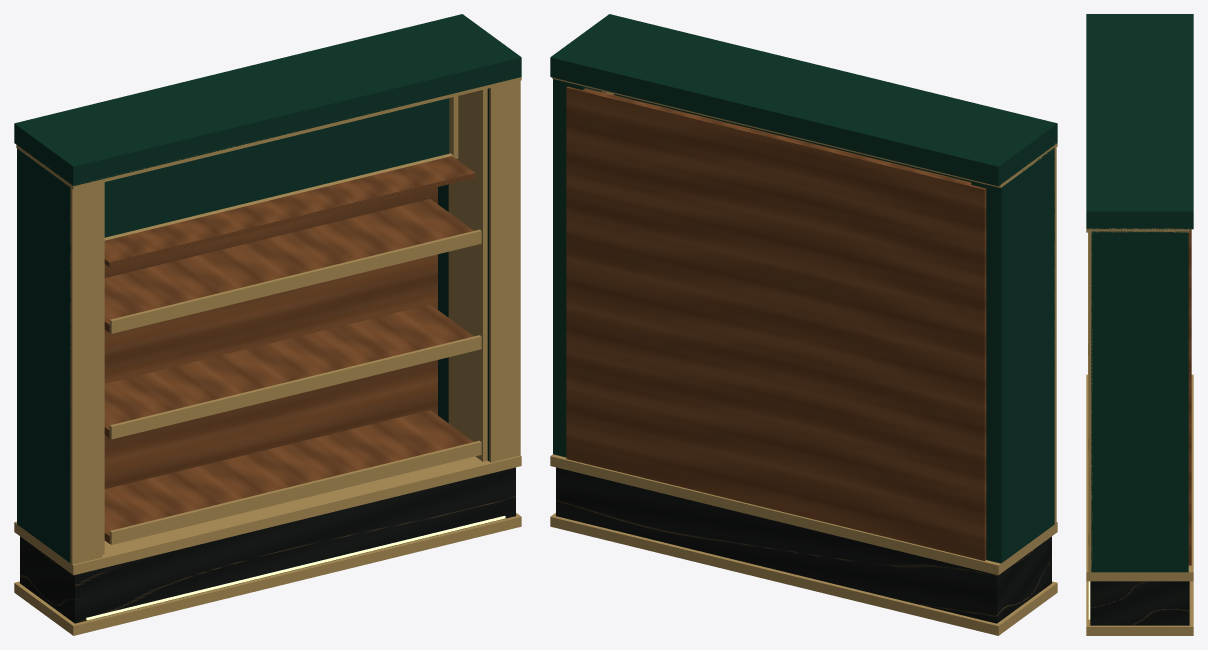
The picture shows the model from 3 angles, left to right: view 1: azimuth 30°, elevation 25°; view 2: azimuth 150°, elevation 25°; view 3: azimuth 270°, elevation 25°; orthographic projection. The views are drawn at different scales.
Visible parts, largest first — view 1: cabinet_back, cabinet_crown, cabinet_stone_base, cabinet_left_pillar, brand_header_panel, shelf_1, shelf_3, shelf_2, trim_left_front, trim_right_front, trim_right_inner, brand_header_light_canopy (+10 smaller); view 2: cabinet_back, cabinet_crown, cabinet_left_pillar, cabinet_stone_base, trim_base_plinth, trim_base_top, cabinet_right_pillar, trim_crown_lip, trim_left_front; view 3: cabinet_right_pillar, cabinet_crown, cabinet_stone_base, trim_base_top, trim_base_plinth, trim_right_front, cabinet_back, trim_crown_lip.
Part boxes in pixels (x1,y1,x2,y2): cabinet_back: (104, 187, 437, 488); cabinet_crown: (14, 14, 521, 186); cabinet_stone_base: (20, 467, 515, 623); cabinet_left_pillar: (17, 148, 70, 562); brand_header_panel: (104, 98, 449, 237); shelf_1: (104, 410, 473, 544); shelf_3: (104, 199, 473, 332); shelf_2: (104, 304, 473, 438); trim_left_front: (70, 183, 102, 564); trim_right_front: (489, 80, 520, 462); trim_right_inner: (448, 89, 487, 461); brand_header_light_canopy: (104, 156, 475, 266); cabinet_back: (566, 86, 986, 560); cabinet_crown: (550, 14, 1057, 186); cabinet_left_pillar: (971, 147, 1054, 563); cabinet_stone_base: (556, 467, 1051, 623); trim_base_plinth: (550, 513, 1057, 635); trim_base_top: (550, 454, 1057, 575); cabinet_right_pillar: (553, 79, 601, 457); trim_crown_lip: (552, 77, 1057, 187); trim_left_front: (1054, 147, 1056, 523); cabinet_right_pillar: (1091, 231, 1188, 572); cabinet_crown: (1086, 14, 1193, 229); cabinet_stone_base: (1090, 581, 1189, 625); trim_base_top: (1086, 374, 1193, 581); trim_base_plinth: (1086, 581, 1193, 635); trim_right_front: (1088, 231, 1092, 572); cabinet_back: (1188, 229, 1191, 565); trim_crown_lip: (1086, 228, 1189, 232).
Size of the model in its own units: 2.4 by 2.4 by 0.55.
5 materials, 2 textured.
